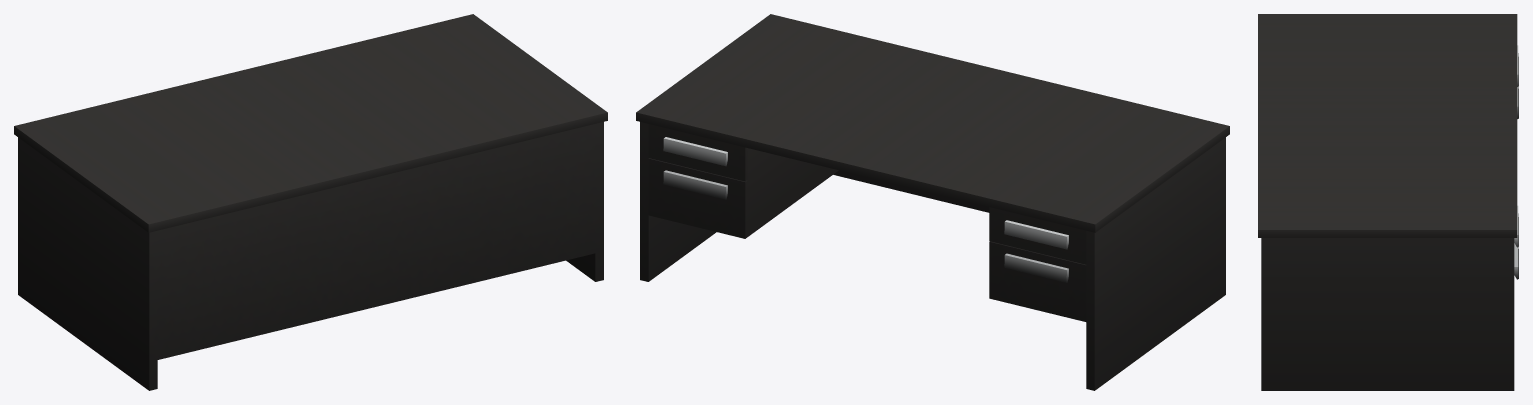
File: Table_OfficeDesk4.fbx
3 renders of one model, left to right at view 1: azimuth 30°, elevation 25°; view 2: azimuth 150°, elevation 25°; view 3: azimuth 270°, elevation 25°, orthographic. The views are drawn at different scales.
Visible parts, largest first — view 1: Table_OfficeDesk4; view 2: Table_OfficeDesk4; view 3: Table_OfficeDesk4.
Part boxes in pixels (x1,y1,x2,y2): Table_OfficeDesk4: (14, 14, 607, 390); Table_OfficeDesk4: (636, 14, 1229, 390); Table_OfficeDesk4: (1258, 14, 1518, 390).
Bounding box in the file's own units: 210 × 73.44 × 107.
